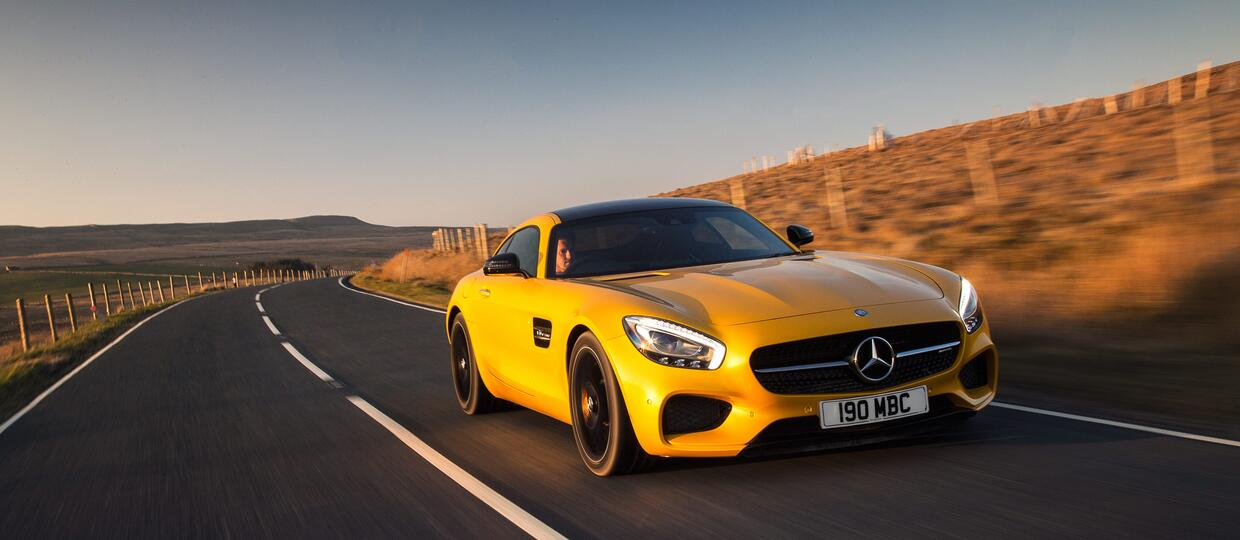tablica: (817, 388, 930, 427)
